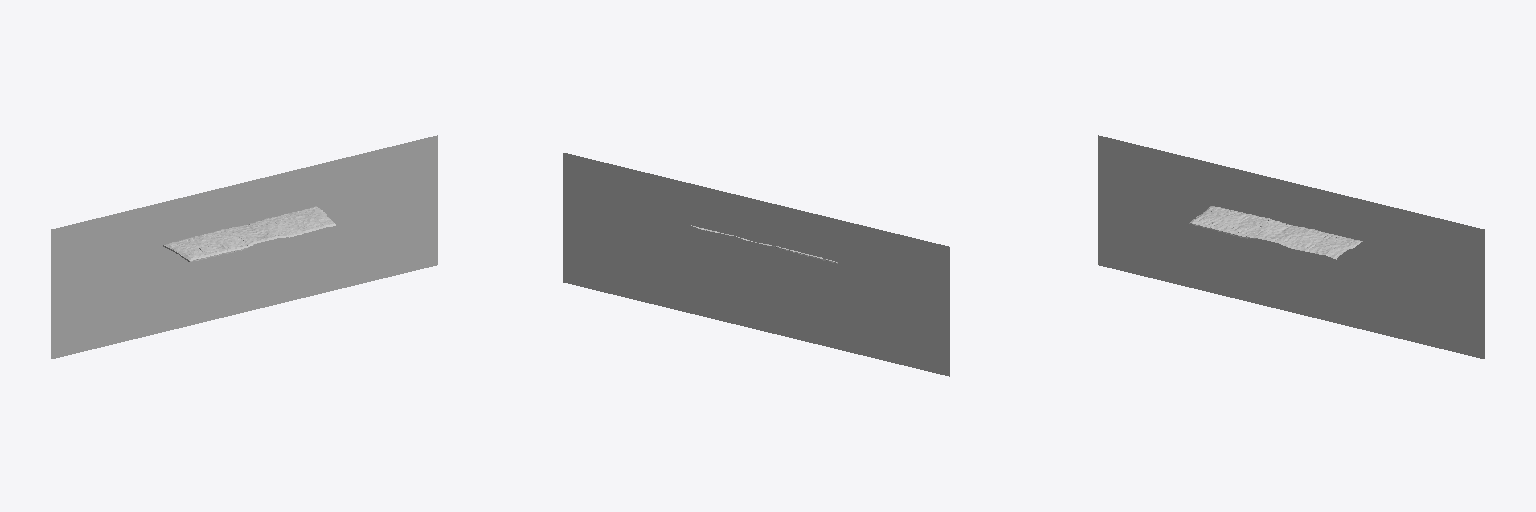
File: backgroud_snow_water_2.obj
3 renders of one model, left to right at view 1: azimuth 30°, elevation 25°; view 2: azimuth 150°, elevation 25°; view 3: azimuth 330°, elevation 25°, orthographic.
Visible parts, largest first — view 1: Underwater_Plane.008, Sky_Plane.001, Water_Plane.002, Snow_Plane.006; view 2: Underwater_Plane.008, Sky_Plane.001; view 3: Underwater_Plane.008, Sky_Plane.001, Water_Plane.002, Snow_Plane.006.
Boxes of the visible parts, box(x1,y1,x2,y2) form: Underwater_Plane.008: box(51, 179, 437, 358); Sky_Plane.001: box(51, 135, 437, 272); Water_Plane.002: box(231, 206, 335, 243); Snow_Plane.006: box(163, 229, 248, 261); Underwater_Plane.008: box(563, 196, 949, 376); Sky_Plane.001: box(563, 153, 949, 290); Underwater_Plane.008: box(1098, 179, 1484, 358); Sky_Plane.001: box(1098, 135, 1484, 272); Water_Plane.002: box(1258, 221, 1362, 259); Snow_Plane.006: box(1189, 206, 1269, 238).
Size of the model in its own units: 192 by 61.57 by 21.83.